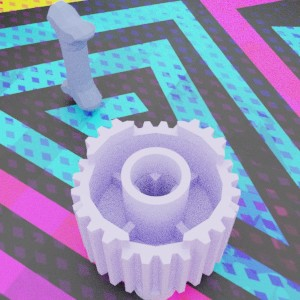lego: (71, 118, 240, 299), (46, 0, 102, 111)
